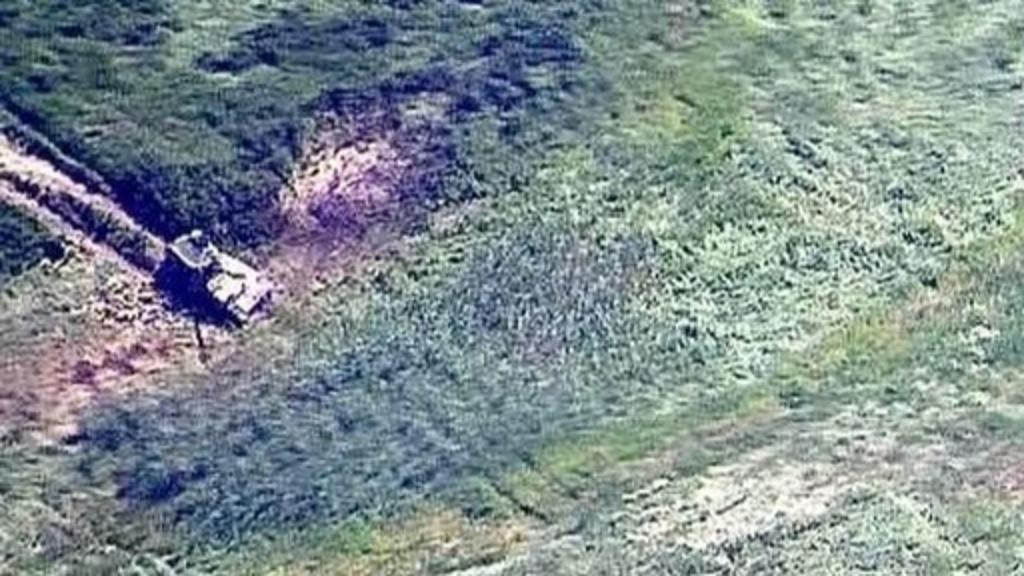ART: (160, 226, 278, 328)
